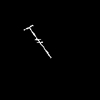treble_crochet: (24, 25, 49, 55)
